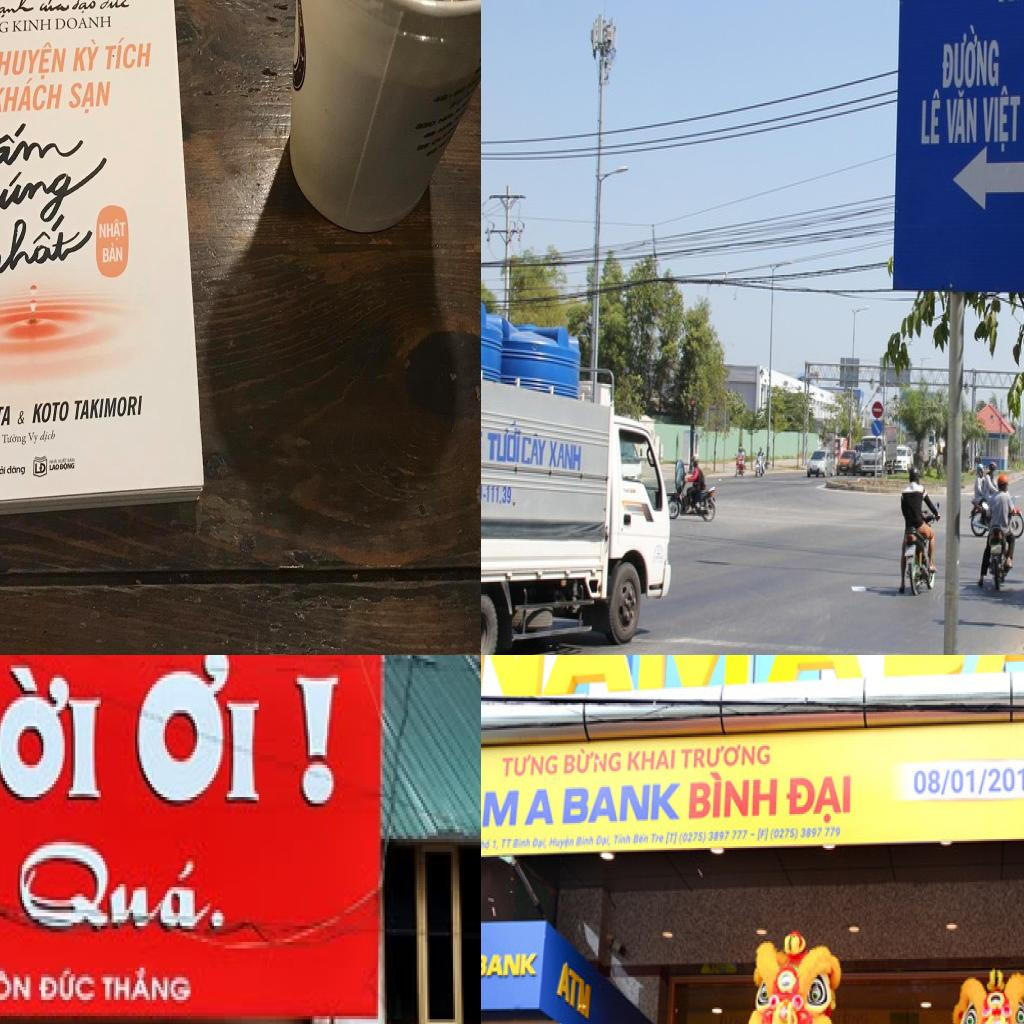text: (13, 832, 229, 932), (128, 655, 261, 810), (0, 655, 103, 806), (481, 655, 754, 710), (0, 155, 115, 223), (0, 198, 99, 276), (293, 674, 340, 806), (560, 778, 682, 828), (688, 771, 782, 827), (0, 120, 94, 171), (760, 655, 874, 694), (914, 762, 1024, 801), (941, 22, 1001, 90), (101, 964, 195, 1006), (785, 769, 855, 825), (682, 738, 774, 774), (981, 83, 1022, 154), (0, 73, 66, 116), (552, 958, 594, 1024), (0, 40, 69, 78), (73, 391, 147, 421), (560, 744, 624, 778), (39, 968, 95, 1006), (481, 785, 522, 835), (481, 948, 540, 982), (944, 89, 979, 146), (500, 746, 560, 778), (486, 416, 524, 466), (105, 34, 157, 70), (68, 76, 116, 114), (628, 744, 678, 776), (768, 823, 842, 844), (678, 827, 750, 848), (522, 786, 556, 828), (0, 967, 36, 1006), (72, 34, 104, 75), (30, 396, 72, 425), (921, 88, 942, 146), (548, 439, 583, 473), (520, 430, 550, 468), (56, 12, 114, 30), (99, 209, 129, 241), (97, 238, 129, 268), (12, 14, 54, 32), (0, 0, 35, 19), (485, 484, 513, 507), (548, 834, 576, 852), (0, 429, 28, 445), (36, 0, 71, 12), (0, 402, 14, 431), (25, 426, 42, 448), (40, 430, 60, 448), (8, 460, 28, 478), (73, 0, 102, 12), (512, 836, 533, 852), (532, 834, 550, 852), (632, 830, 650, 848), (575, 834, 595, 850), (100, 0, 135, 9), (614, 832, 632, 848), (664, 830, 680, 848), (757, 825, 771, 844), (33, 460, 49, 476), (596, 834, 612, 850), (650, 832, 666, 848), (481, 837, 493, 855), (500, 835, 514, 850), (61, 462, 77, 474), (50, 460, 62, 474), (0, 460, 9, 476), (493, 838, 501, 854), (750, 832, 757, 839)
